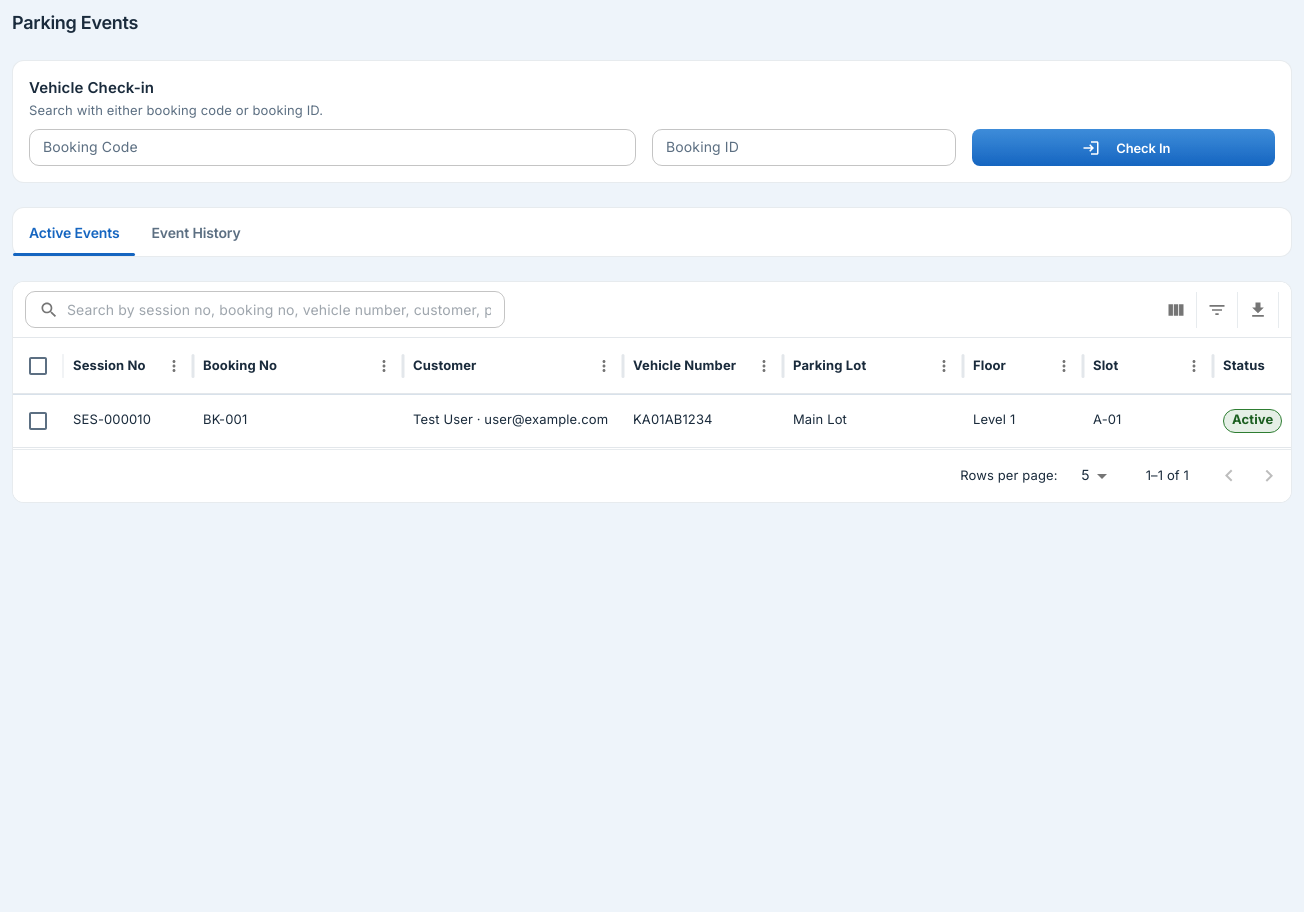
Test case: ParkingEventsPage › shows history error alert for admin on history tab
The width and height of the screenshot is (1304, 912).
Expected: the text "BK-001" is shown, 203,412 -> 247,428
Click the tab "Event History".
click(196, 232)  # box 136,208 -> 257,256
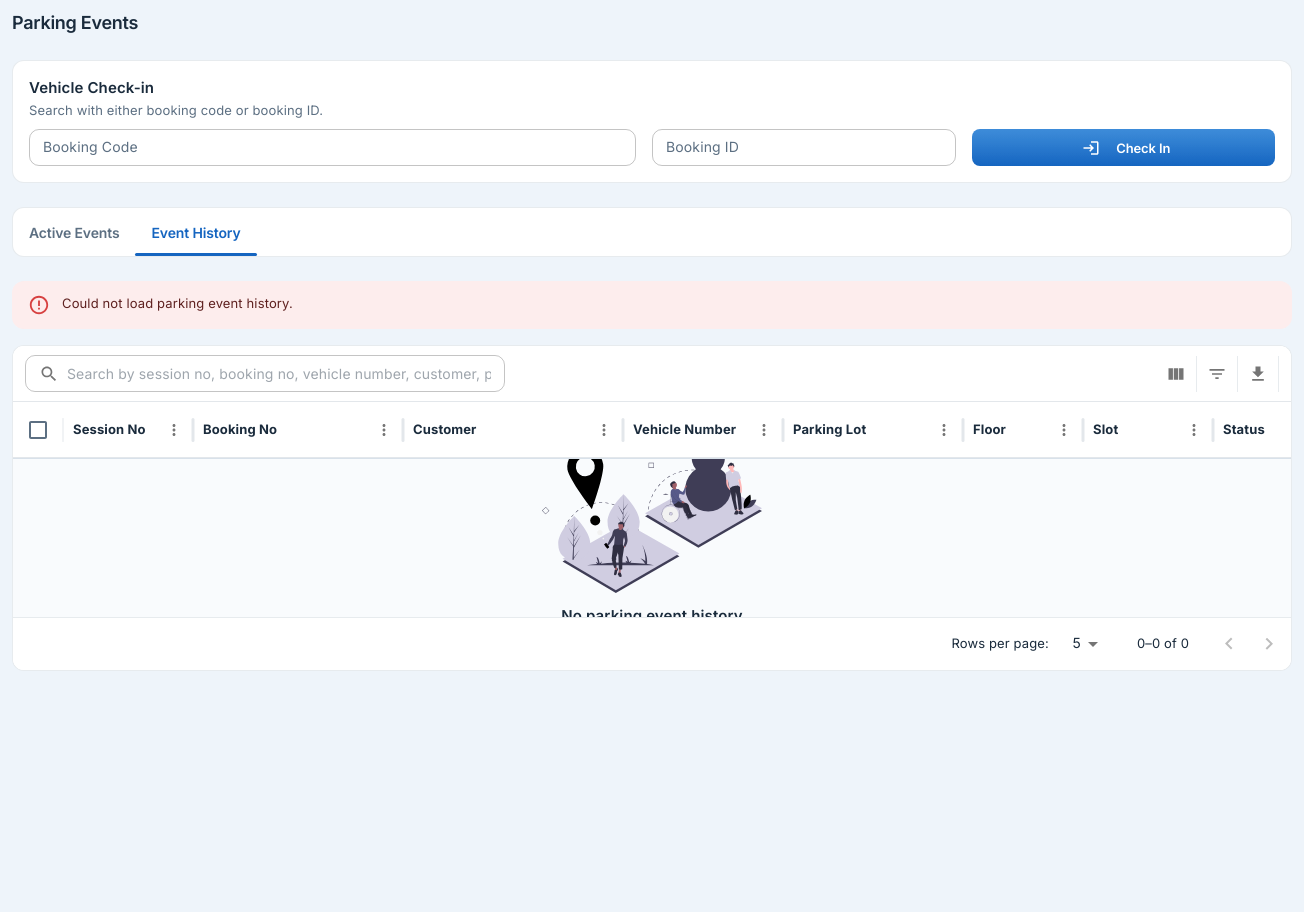
Now the message shows "Could not load parking event history", box 62,296 -> 293,312
